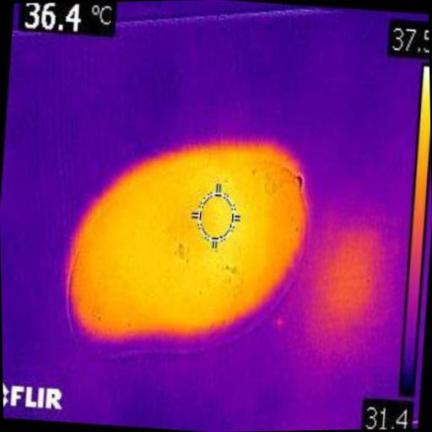mango: (67, 155, 305, 353)
